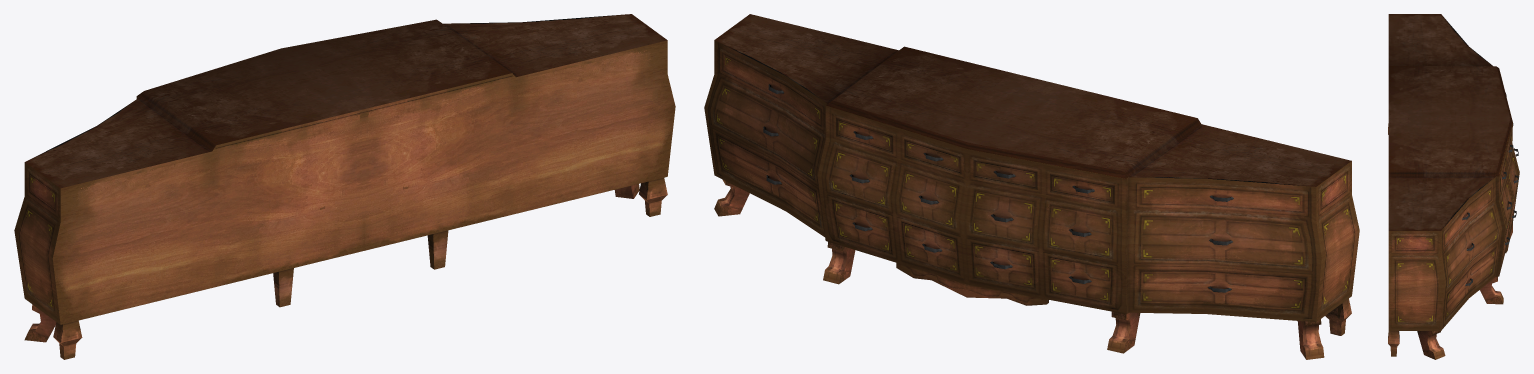
File: commode.fbx
The picture shows the model from 3 angles, left to right: view 1: azimuth 30°, elevation 25°; view 2: azimuth 150°, elevation 25°; view 3: azimuth 270°, elevation 25°; orthographic projection. The views are drawn at different scales.
Visible parts, largest first — view 1: commode_01; view 2: commode_01; view 3: commode_01.
Part boxes in pixels (bbox=[...]): commode_01: bbox=[14, 14, 675, 359]; commode_01: bbox=[704, 14, 1359, 359]; commode_01: bbox=[1388, 14, 1519, 359].
Bounding box in the file's own units: 69.32 × 19.06 × 17.33.
Materials: 1 (1 with a texture image).
